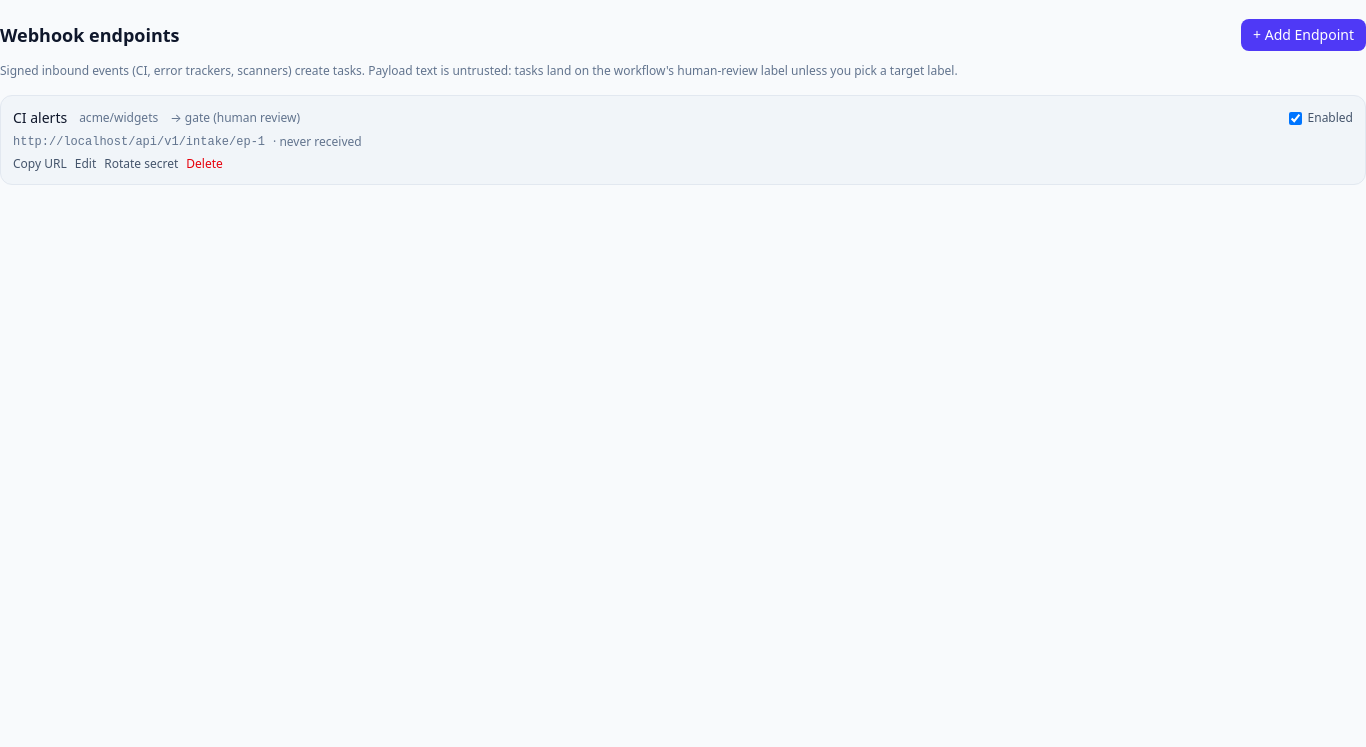
Test: IntakeEndpointsSection › previews a sample payload
The width and height of the screenshot is (1366, 747).
Expected: the text "CI alerts" is shown, [13,108,67,128]
Click the button "Edit": (86, 164) [75,156,96,172]
(page scrolled)
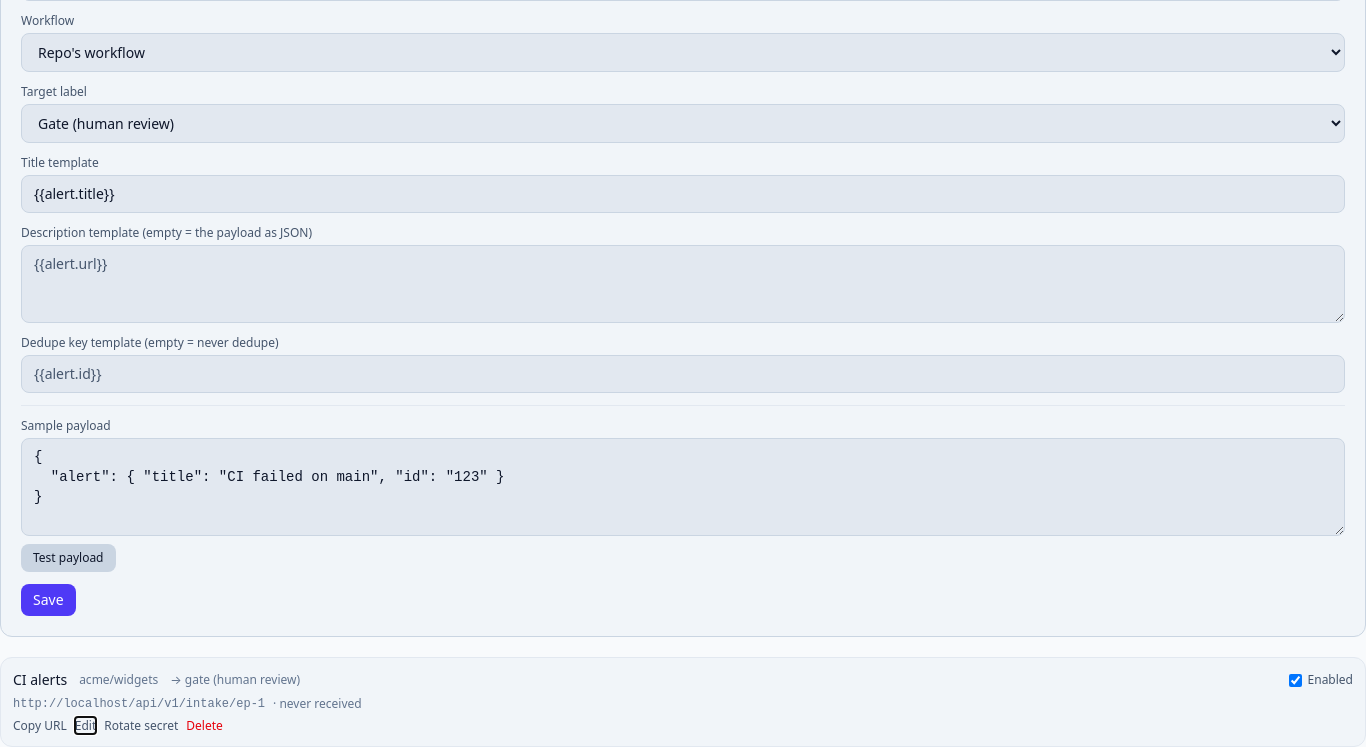
Click the button "Test payload": (68, 558) [21,544,116,572]
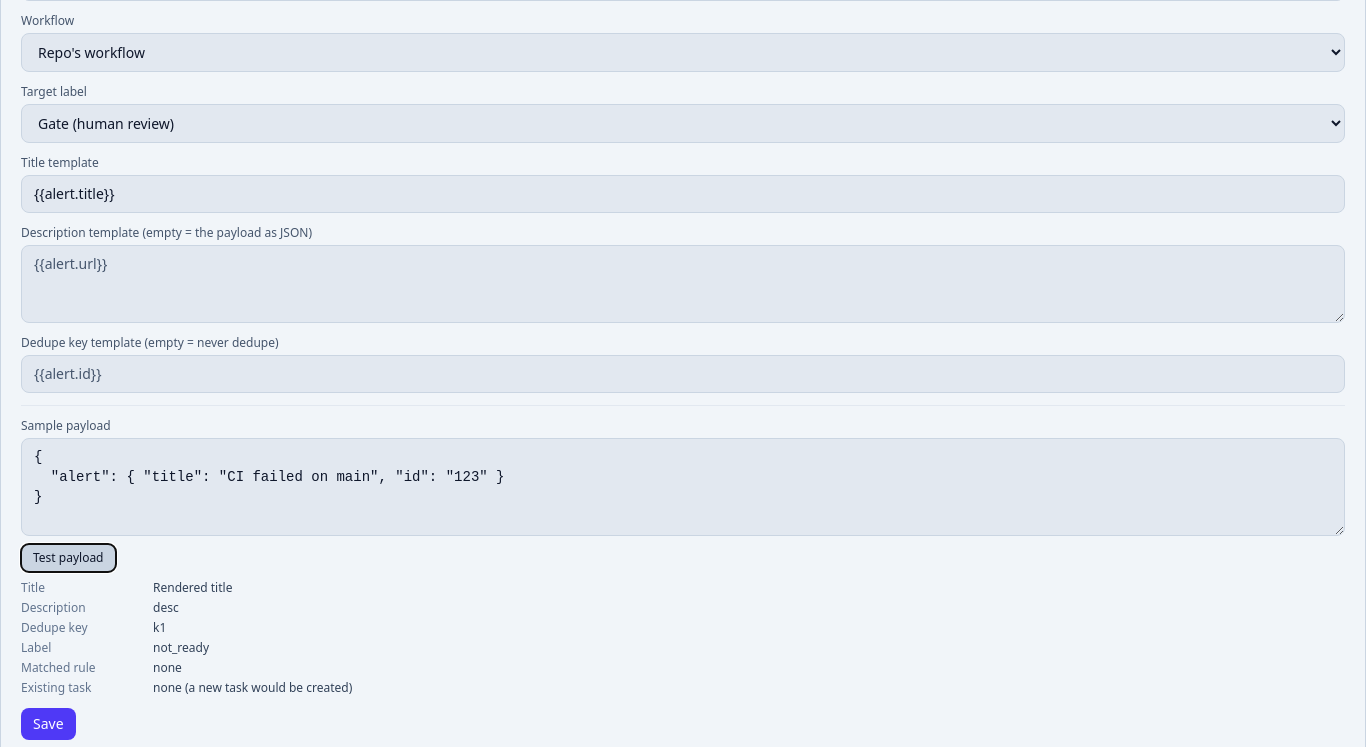
Expected: the text "Rendered title" is shown, [153,579,232,596]
